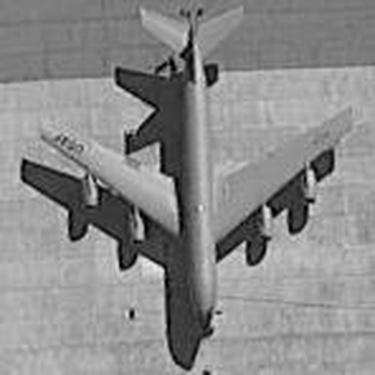airplane: (5, 2, 365, 368)
